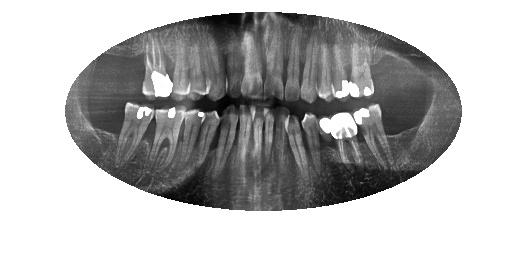i10healthy: (234, 102, 254, 171)
i11healthy: (212, 102, 242, 178)
i12chipped: (194, 107, 223, 171)
i13healthy: (180, 107, 206, 175)
i14healthy: (148, 104, 185, 169)
i15healthy: (114, 97, 158, 172)
i2healthy: (350, 101, 399, 171)
i3healthy: (328, 109, 368, 171)
i4decay: (314, 112, 338, 168)
i5chipped: (297, 111, 324, 171)
i6healthy: (283, 109, 311, 176)
i7decay: (273, 107, 293, 177)
i8healthy: (261, 107, 277, 174)
i9healthy: (249, 102, 267, 171)
u10decay: (225, 31, 246, 101)
u11decay: (201, 26, 228, 100)
u12healthy: (190, 25, 213, 99)
u13healthy: (172, 27, 194, 97)
u14healthy: (139, 32, 176, 99)
u15loss: (128, 39, 147, 95)
u2loss: (369, 43, 391, 93)
u3healthy: (346, 35, 377, 100)
u4healthy: (329, 31, 351, 99)
u5healthy: (317, 29, 337, 105)
u6healthy: (300, 25, 321, 106)
u7healthy: (281, 22, 303, 106)
u8chipped: (262, 19, 287, 106)
u9healthy: (238, 21, 265, 100)
